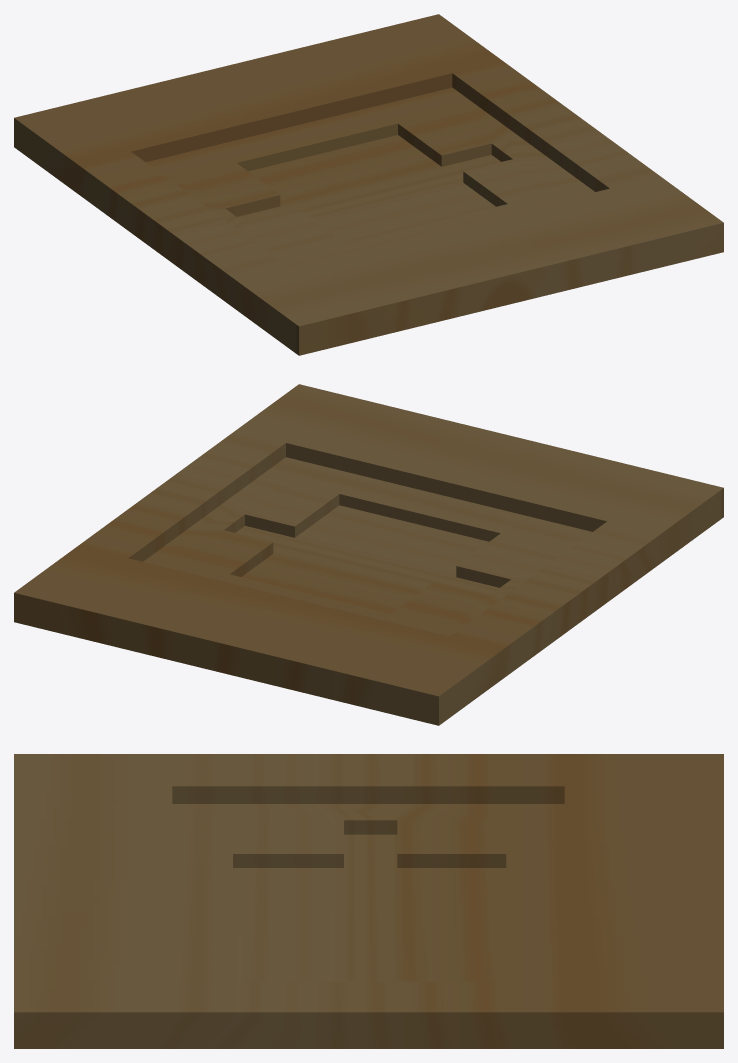
File: StartMap.obj
3 views of the same model, one above another, from view 1: azimuth 30°, elevation 25°; view 2: azimuth 150°, elevation 25°; view 3: azimuth 270°, elevation 25° (orthographic). The views are drawn at different scales.
Visible parts, largest first — view 1: Cube; view 2: Cube; view 3: Cube.
Boxes of the visible parts, left/top/right/bottom form: Cube: left=14, top=14, right=723, bottom=355; Cube: left=14, top=384, right=723, bottom=725; Cube: left=14, top=754, right=723, bottom=1048.
Size of the model in its own units: 117 by 7.72 by 136.
